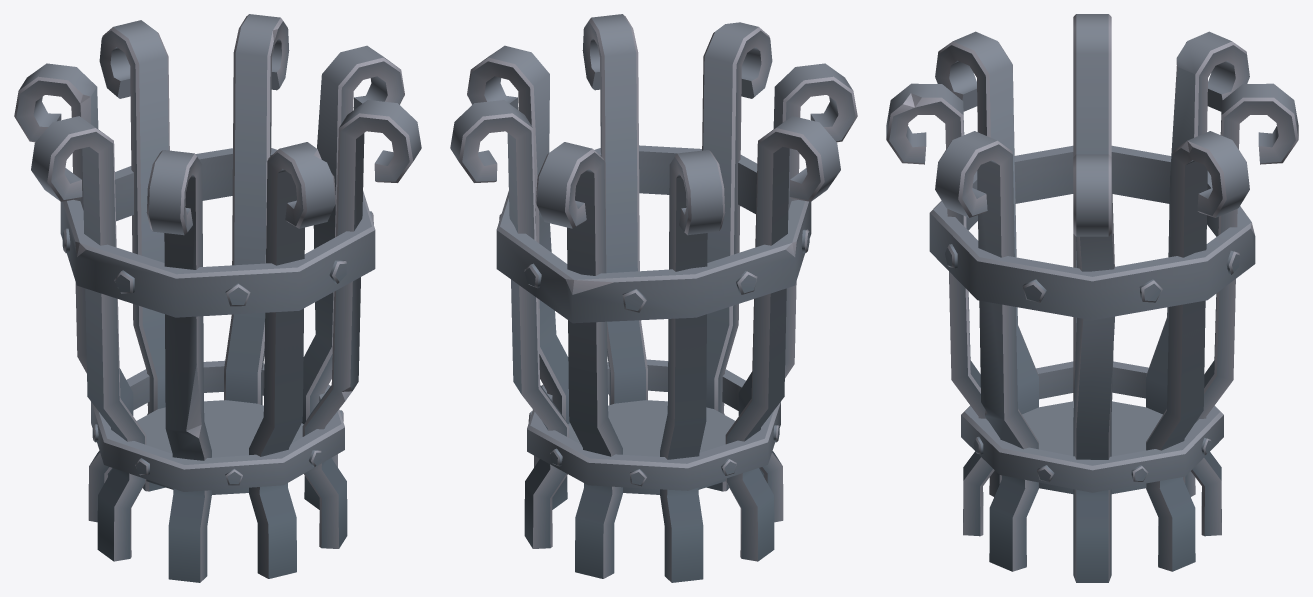
Rendered from FirePlace_1_1_D.glb.
The picture shows the model from 3 angles, left to right: view 1: azimuth 30°, elevation 25°; view 2: azimuth 150°, elevation 25°; view 3: azimuth 270°, elevation 25°; orthographic projection.
Visible parts, largest first — view 1: FirePlace_1_1_D; view 2: FirePlace_1_1_D; view 3: FirePlace_1_1_D.
Part boxes in pixels (box(x1,y1,x2,y2)): FirePlace_1_1_D: box(14, 14, 421, 582); FirePlace_1_1_D: box(450, 14, 857, 582); FirePlace_1_1_D: box(886, 14, 1298, 582).
Size of the model in its own units: 0.7082 by 0.8289 by 0.7082.
1 material, 1 textured.
